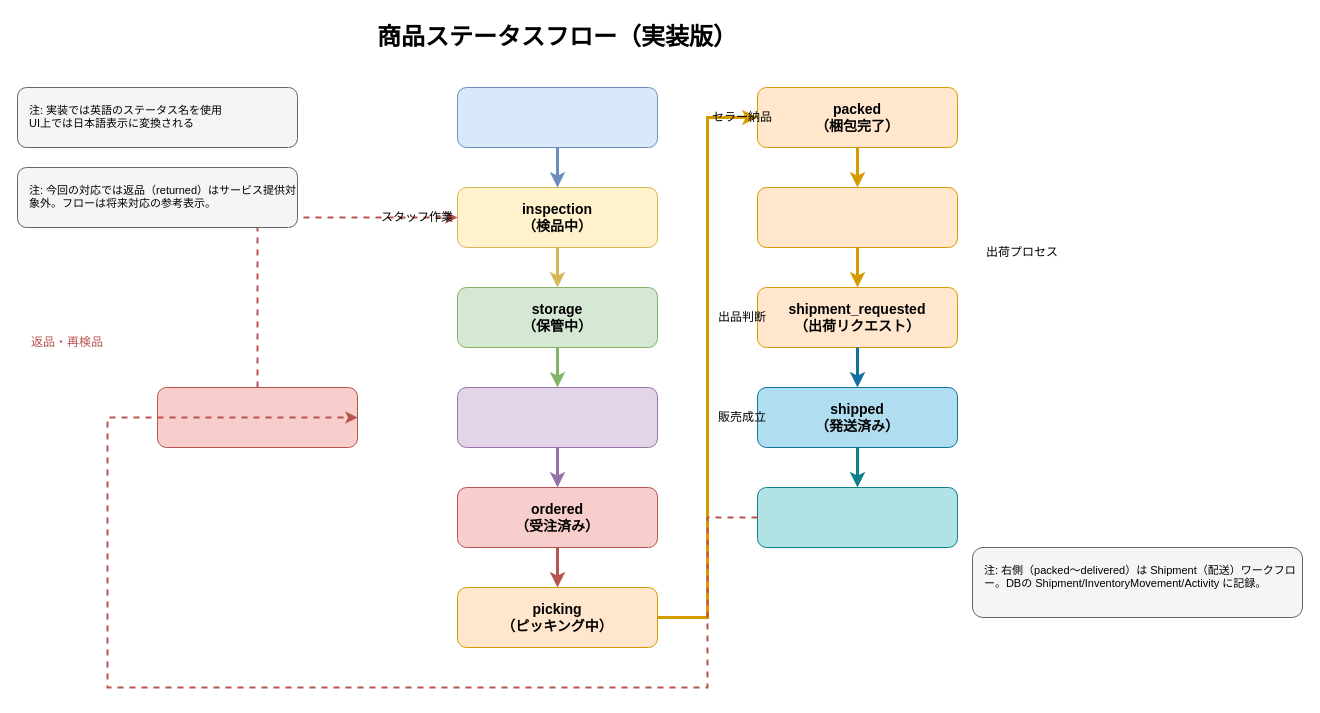
Image size: 1320x713. Some labels were removed from this diagram. The shapes that lost their labels are listed below. From the top down, each one's centre as x and y in pixels, then its label:
At point (557, 117): "inbound （入荷）".
At point (857, 217): "label_attached （ラベル貼付済み）".
At point (257, 417): "returned （返品）".
At point (557, 417): "listing （出品中）".
At point (857, 517): "delivered （配送完了）".
